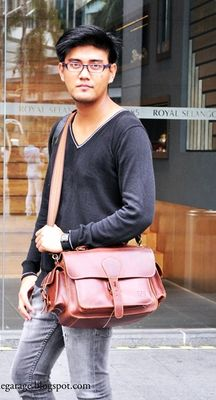Malay: (63, 48, 110, 100)
